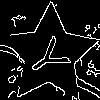Y: (24, 30, 78, 83)
